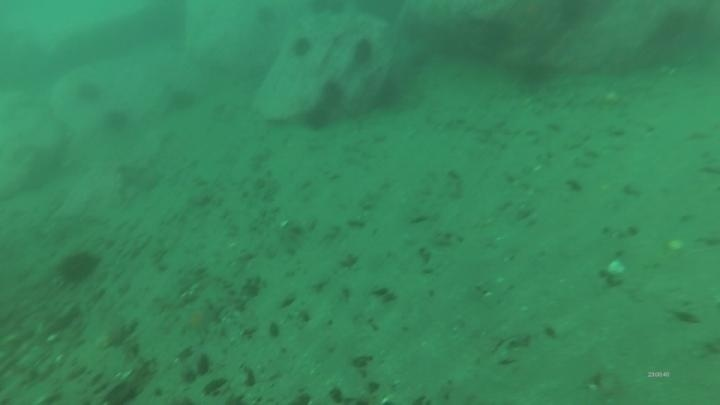echinus: (55, 248, 102, 286), (301, 103, 334, 134), (165, 85, 200, 114), (317, 78, 347, 111), (349, 36, 377, 68), (73, 78, 105, 106), (101, 106, 132, 134), (288, 34, 315, 60)
starfish: (115, 159, 166, 198), (175, 298, 220, 339)
